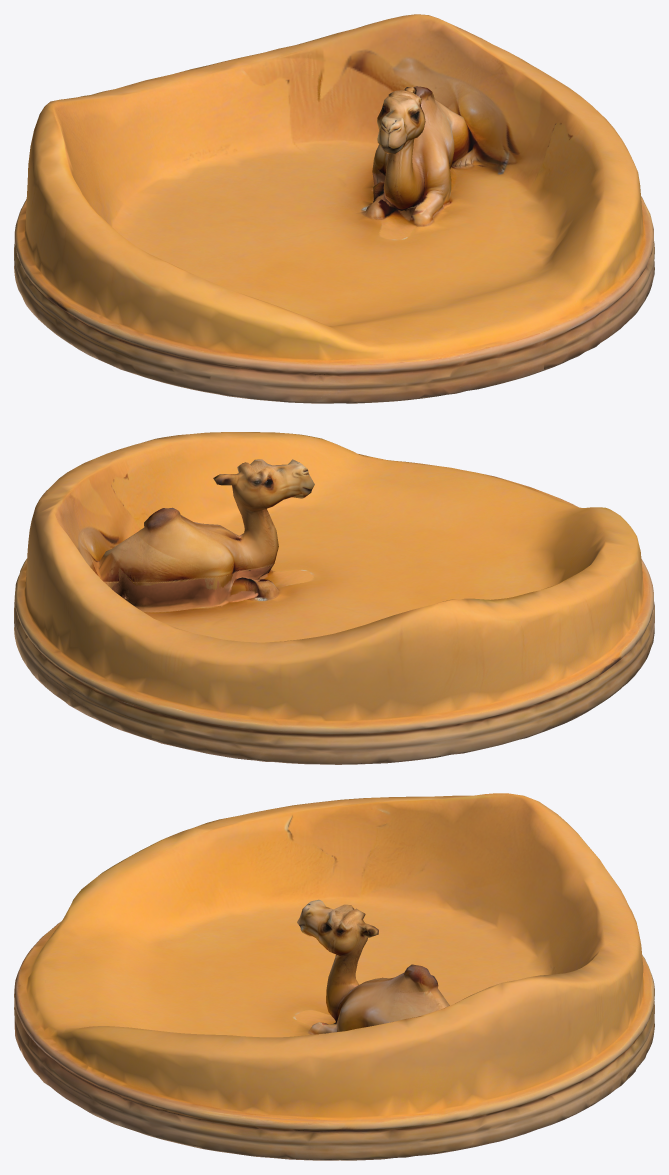
Rendered from camel-plate.glb.
3 renders of one model, top to bottom at view 1: azimuth 30°, elevation 25°; view 2: azimuth 150°, elevation 25°; view 3: azimuth 270°, elevation 25°, orthographic.
Visible parts, largest first — view 1: Mesh_0; view 2: Mesh_0; view 3: Mesh_0.
Part boxes in pixels (x1,y1,x2,y2): Mesh_0: (14,14,654,403); Mesh_0: (14,432,654,764); Mesh_0: (14,793,654,1160).
Bounding box in the file's own units: 7.41 × 2 × 7.42.
1 material, 1 textured.
